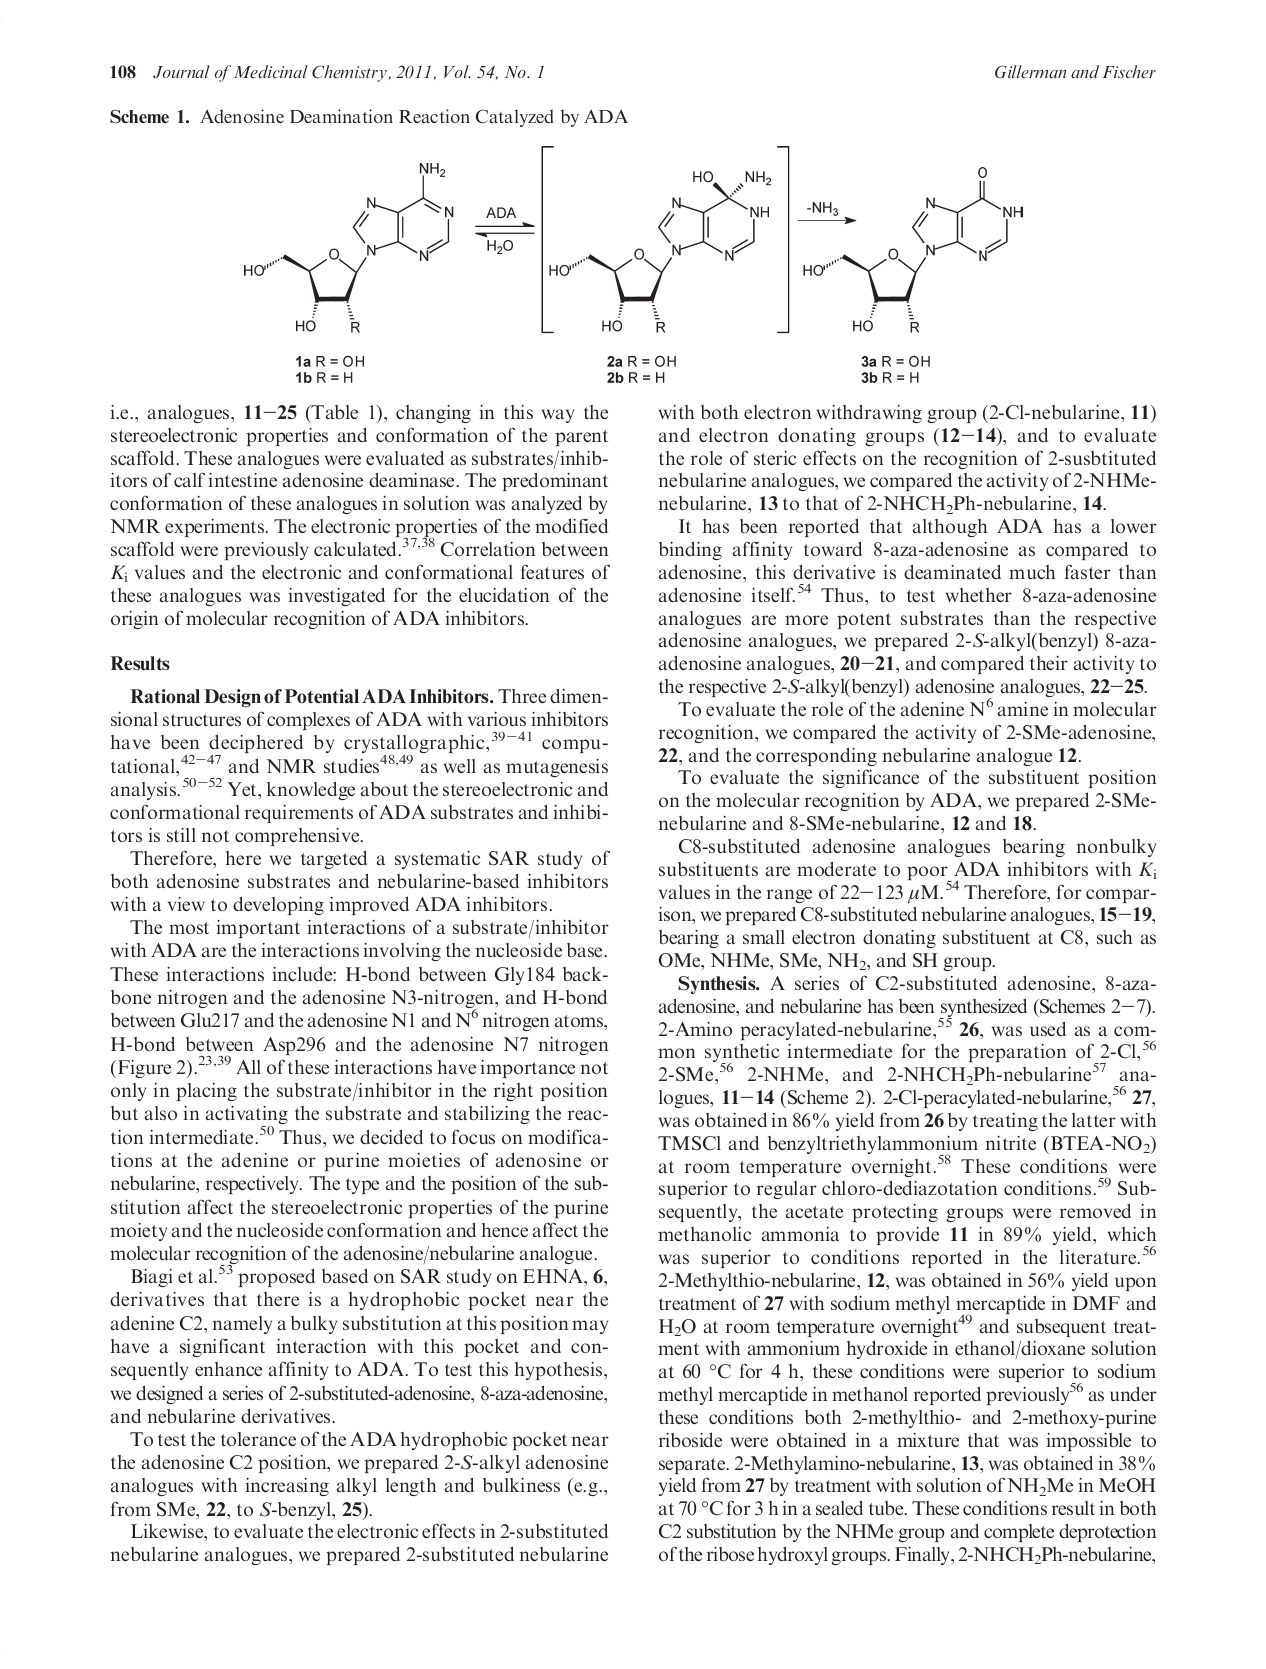exist_molecular: (235, 154, 460, 339), (547, 166, 773, 336), (799, 166, 1027, 332)
